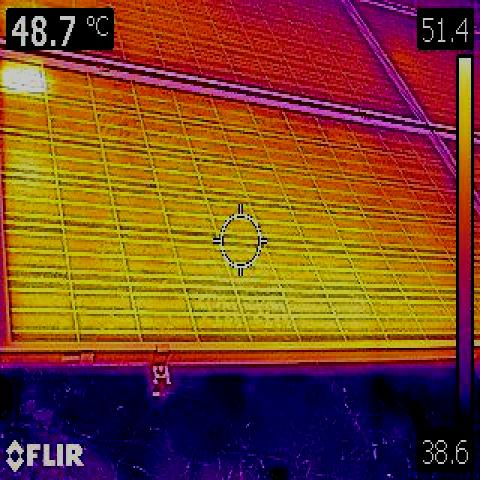fault: (2, 60, 43, 92)
